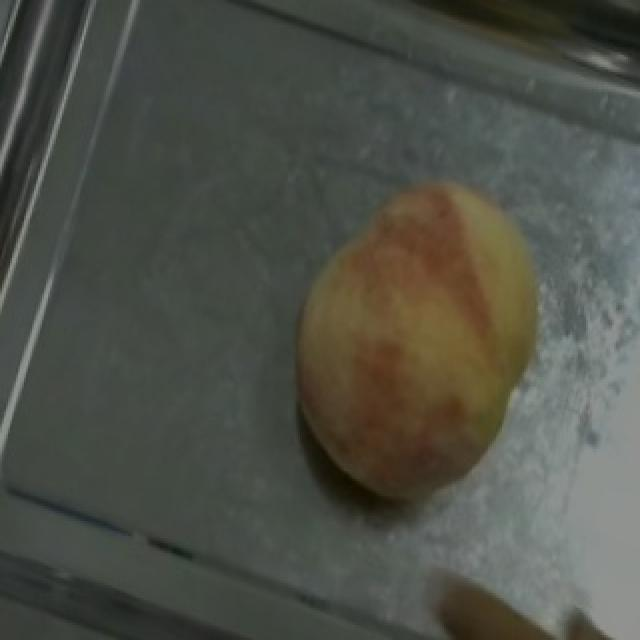Fruit: (256, 136, 584, 568)
